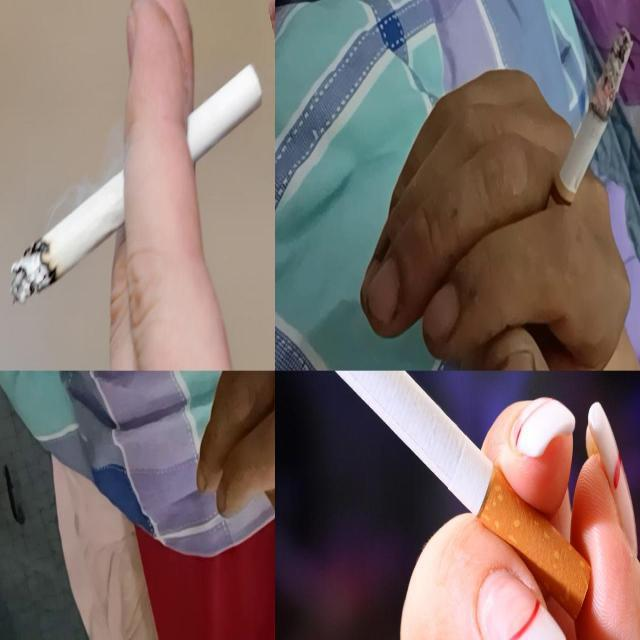smoking: (274, 370, 594, 624), (10, 58, 264, 306), (536, 28, 636, 248)
